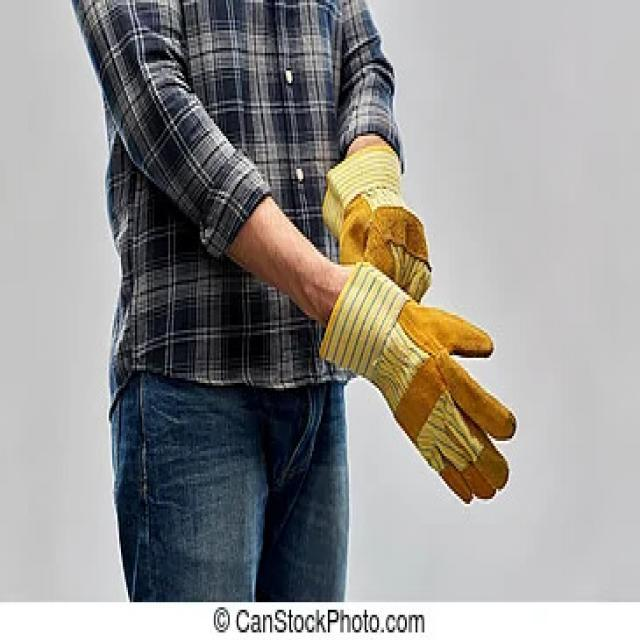gloves: (312, 260, 518, 507), (318, 146, 434, 294)
